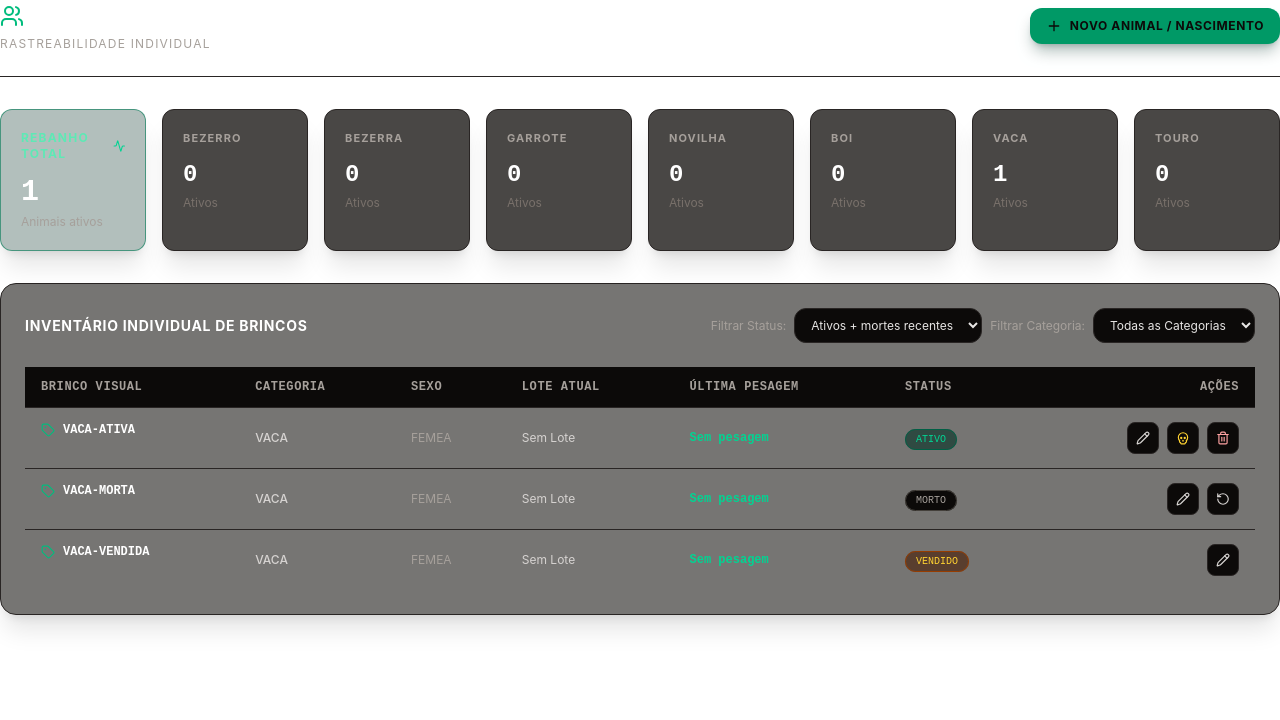
Scenario: Rebanho renderizado › @spec:AC-344 rejeita data da pesagem informada sem peso atual
expect the text "VACA-ATIVA" is shown: met, box [25,408,239,452]
Step 1. Click the button "Novo Animal / Nascimento" → (1155,26), box [1030,8,1279,44]
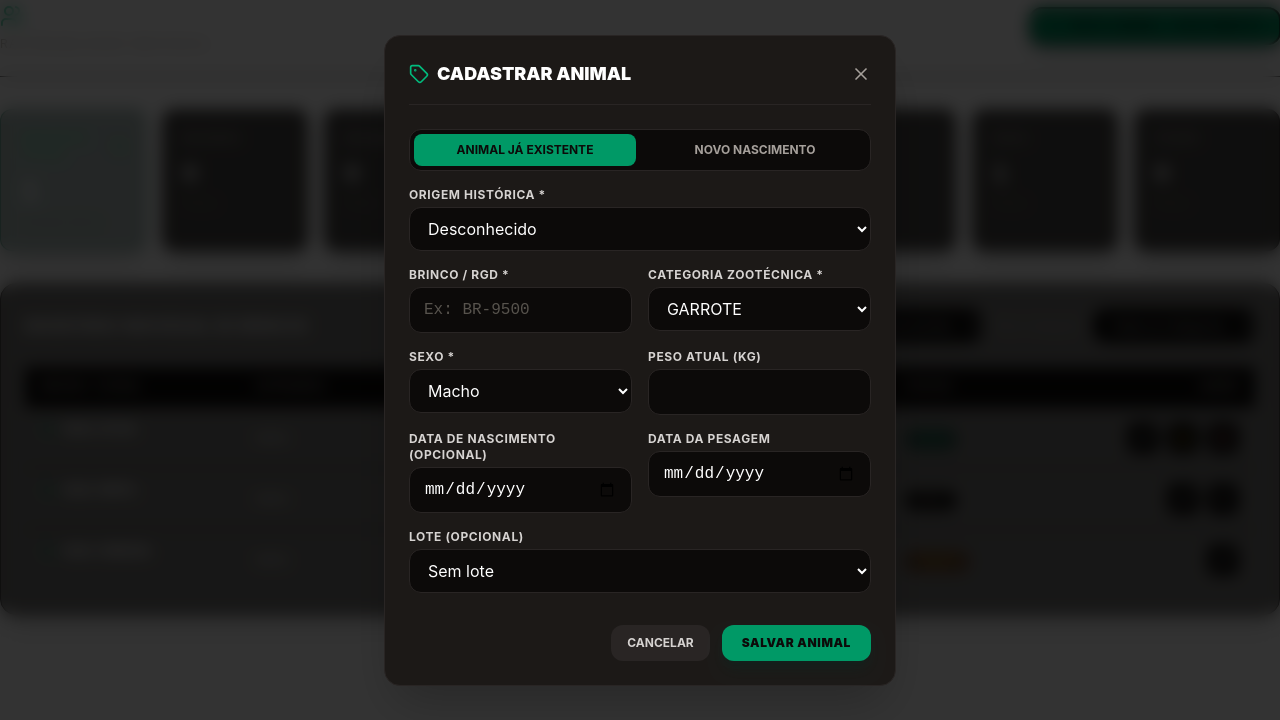
Step 2. Type "HIST-103" into the field labelled "Brinco / RGD *" → (520,310), box [409,286,632,332]
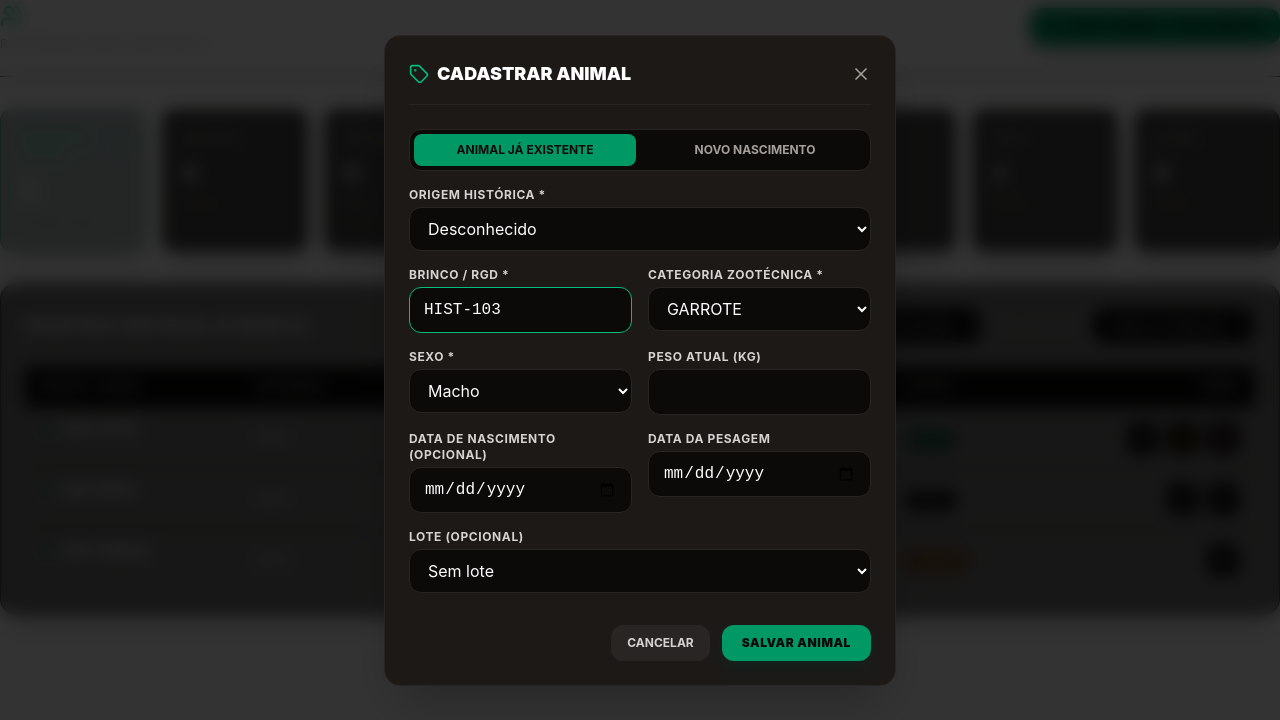
Step 3. Type "2025-01-15" into the date field labelled "Data da pesagem" → (760,474), box [648,450,871,496]
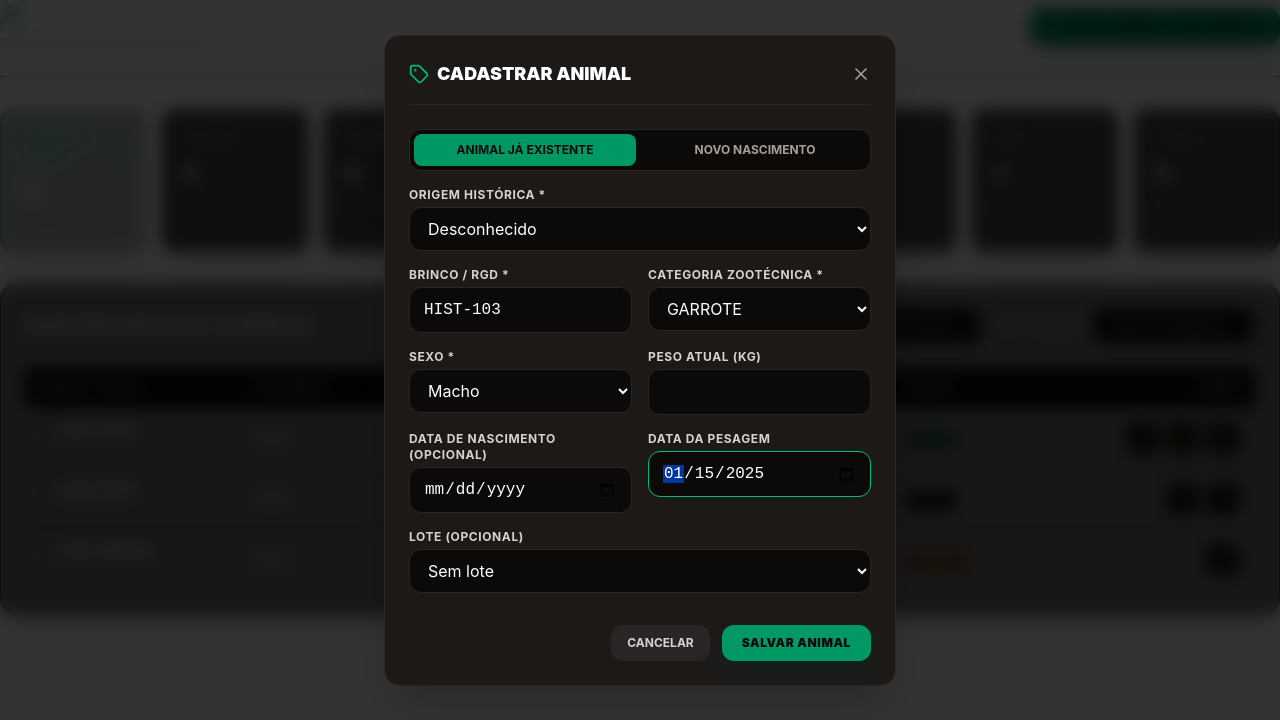
Step 4. Click the button "Salvar Animal" → (796,642), box [722,624,871,660]
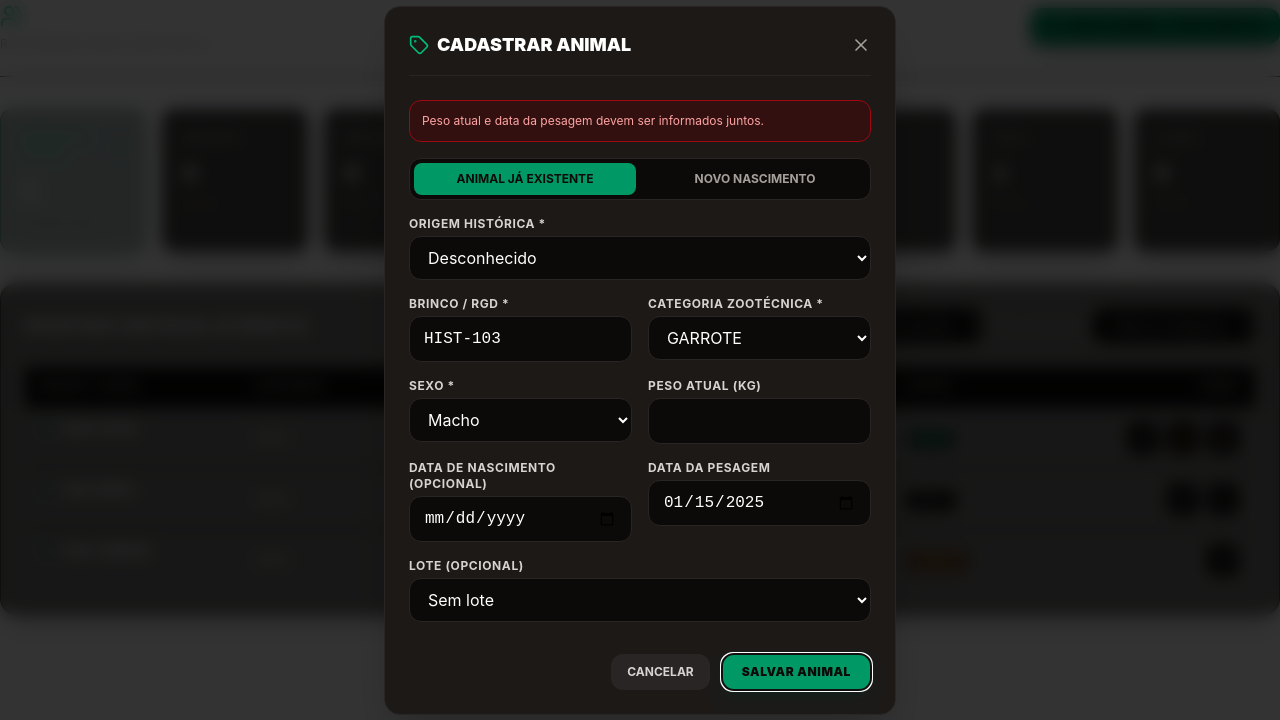
expect the text "Peso atual e data da pesagem devem ser informados juntos." is shown: met, box [409,100,871,142]
